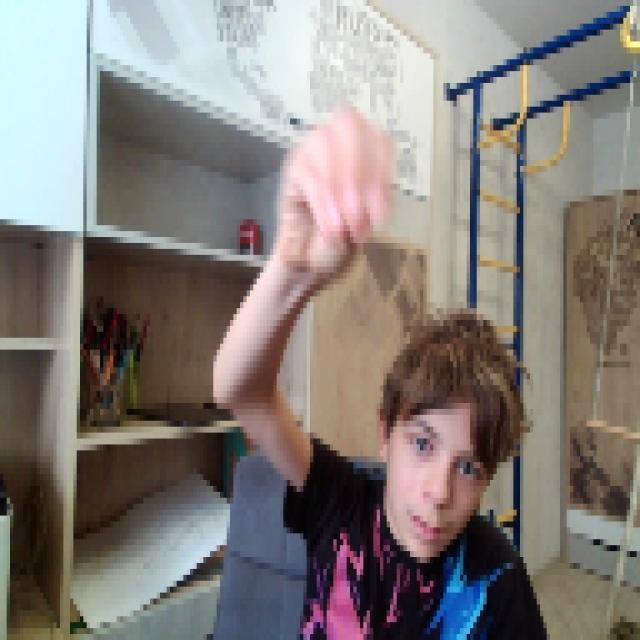left_click: (270, 89, 390, 272)
